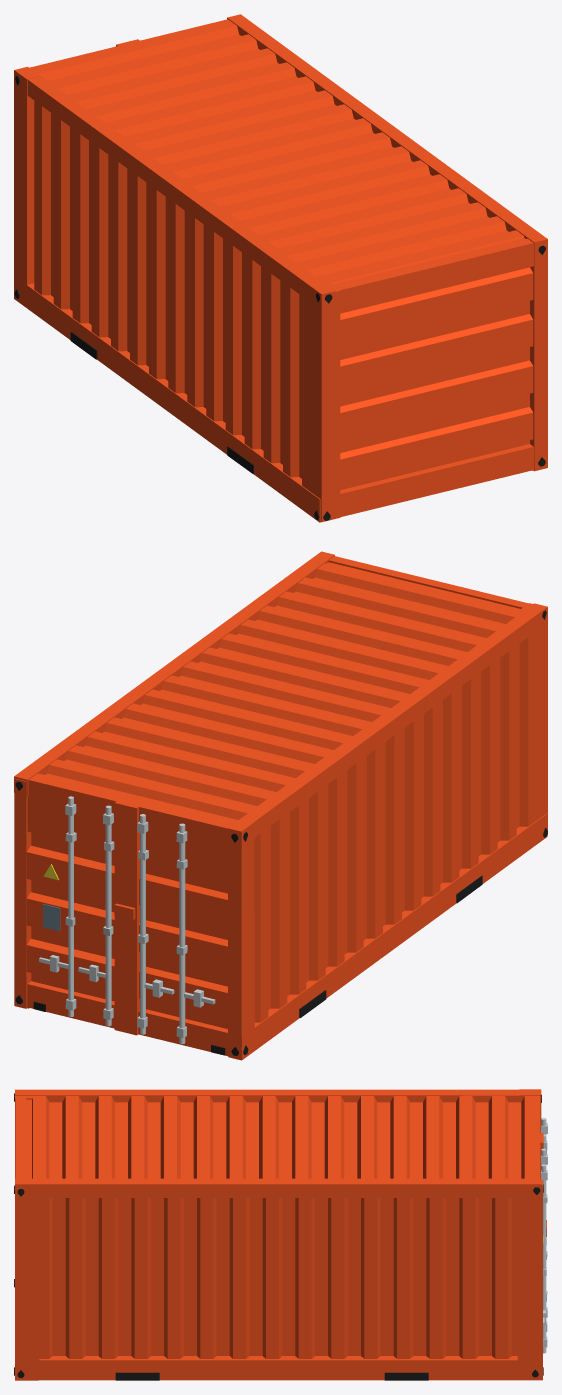
File: shipping_container_red.glb
The picture shows the model from 3 angles, top to bottom: view 1: azimuth 30°, elevation 25°; view 2: azimuth 150°, elevation 25°; view 3: azimuth 270°, elevation 25°; orthographic projection. The views are drawn at different scales.
Visible parts, largest first — view 1: Node_a542c8, Node_d7c4a5; view 2: Node_a542c8, Node_7d7d12, Node_d7c4a5; view 3: Node_a542c8, Node_7d7d12, Node_d7c4a5.
Part boxes in pixels (box(x1,y1,x2,y2)): Node_a542c8: box(14, 14, 547, 522); Node_d7c4a5: box(14, 75, 545, 520); Node_a542c8: box(14, 551, 547, 1060); Node_7d7d12: box(39, 796, 215, 1044); Node_d7c4a5: box(15, 610, 547, 1055); Node_a542c8: box(15, 1089, 546, 1380); Node_7d7d12: box(541, 1118, 547, 1353); Node_d7c4a5: box(14, 1093, 543, 1380).
Bounding box in the file's own units: 3.15 × 3 × 7.4.
